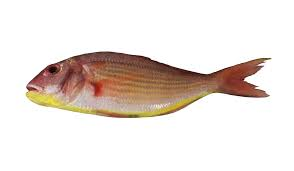Ikan Kerisi: (24, 49, 266, 116)
